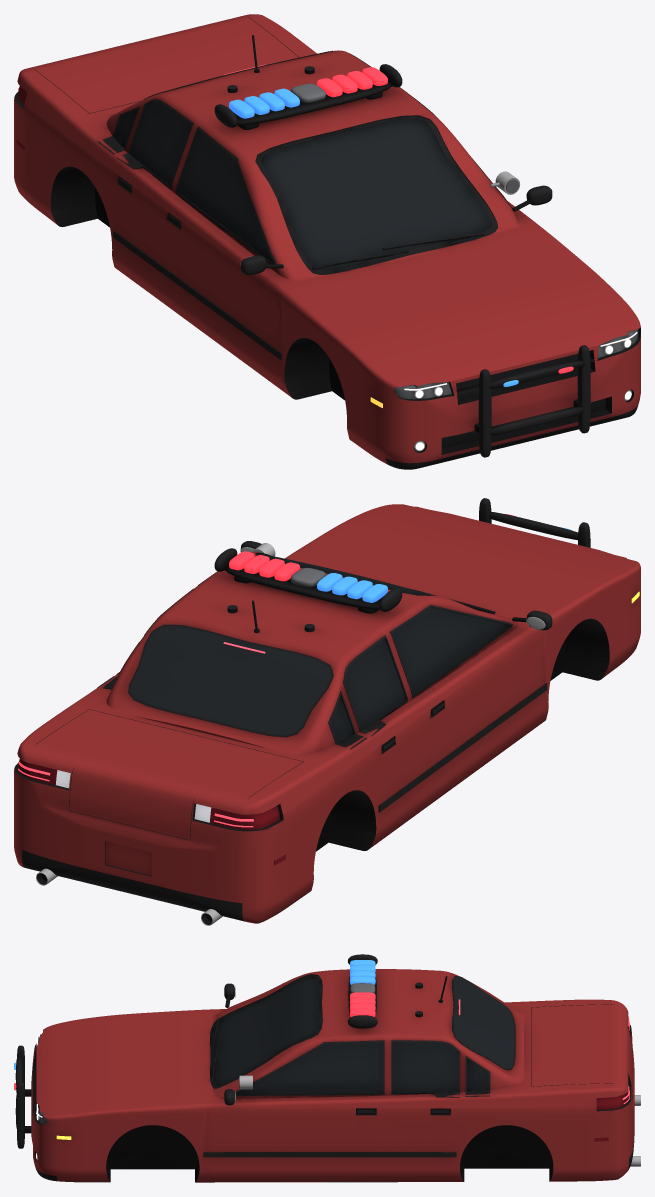
The model's file is marshal.glb.
3 renders of one model, top to bottom at view 1: azimuth 30°, elevation 25°; view 2: azimuth 150°, elevation 25°; view 3: azimuth 270°, elevation 25°, orthographic. The views are drawn at different scales.
Parts seen in each view (by area): view 1: paint, window, trim, head, grille, beaconB, beaconR; view 2: paint, trim, glass, window, tail, beaconB, beaconR, chrome; view 3: paint, window, trim, glass, beaconR, beaconB, chrome, tail, head.
Part boxes in pixels (box(x1,y1,x2,y2)): paint: box(14, 14, 640, 464); window: box(114, 101, 491, 273); trim: box(14, 17, 640, 469); head: box(291, 83, 638, 451); grille: box(441, 354, 605, 448); beaconB: box(229, 88, 518, 386); beaconR: box(317, 67, 573, 373); paint: box(14, 504, 640, 923); trim: box(14, 498, 637, 924); glass: box(130, 626, 331, 734); window: box(261, 554, 509, 742); tail: box(18, 759, 285, 865); beaconB: box(317, 527, 572, 602); beaconR: box(229, 514, 515, 581); chrome: box(36, 543, 545, 925); paint: box(31, 969, 634, 1182); window: box(211, 976, 488, 1094); trim: box(15, 954, 634, 1182); glass: box(453, 977, 513, 1068); beaconR: box(14, 992, 375, 1090); beaconB: box(14, 960, 375, 1069); chrome: box(36, 986, 640, 1166); tail: box(594, 1091, 628, 1141); head: box(38, 983, 375, 1124).
Size of what is drawn, in the model's own units: 2.25 by 1.48 by 5.23.
